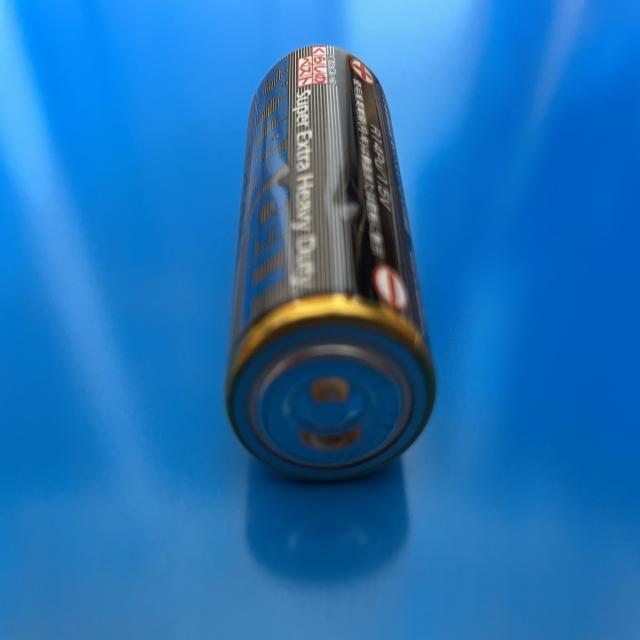hazardous waste: (219, 42, 444, 488)
